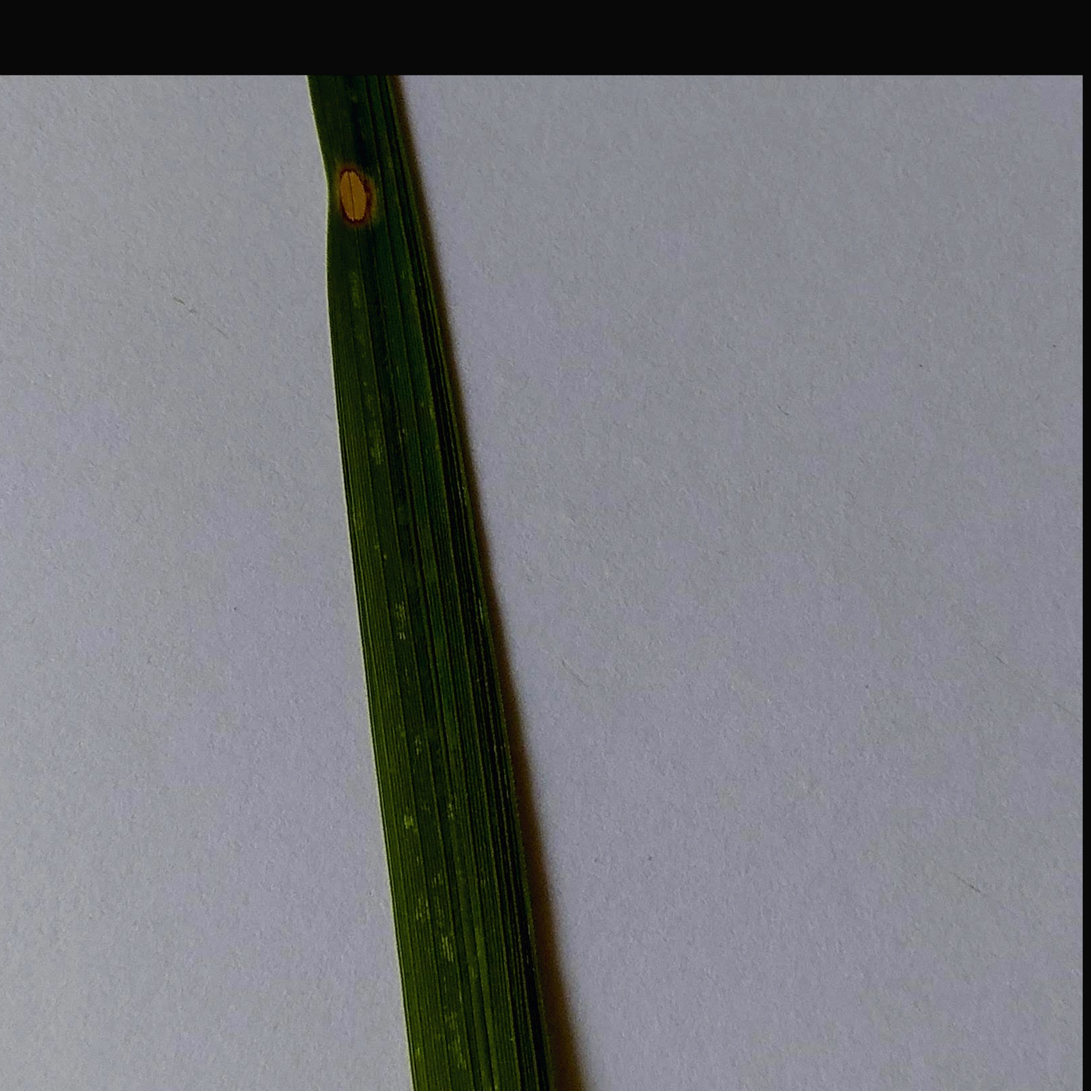Brown_Spot: (312, 138, 380, 229)
